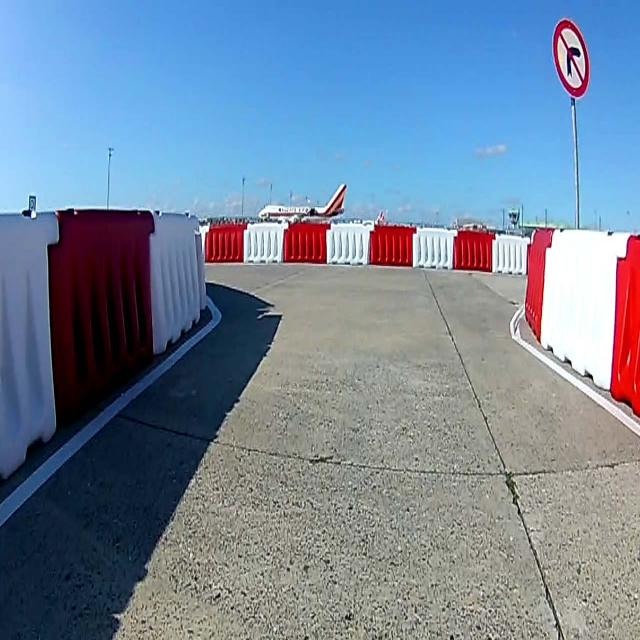sagadonulmez: (554, 20, 589, 96)
